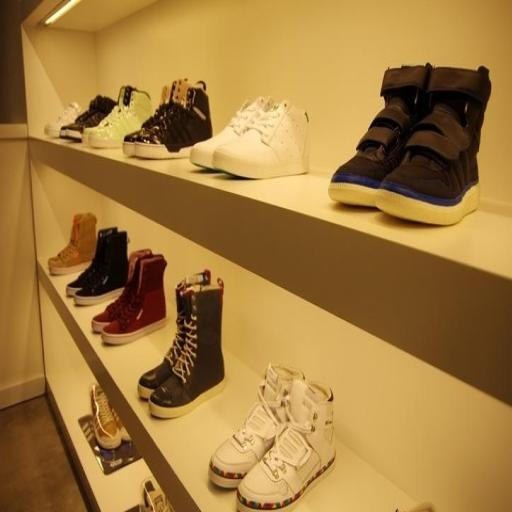shoe: (375, 66, 491, 225), (328, 63, 432, 207), (236, 379, 335, 512), (209, 364, 304, 488), (148, 279, 225, 418), (137, 269, 211, 400), (212, 100, 309, 179), (190, 96, 274, 169), (134, 81, 212, 159), (101, 255, 167, 344), (91, 248, 152, 333), (122, 79, 187, 156), (82, 86, 152, 148), (74, 232, 128, 305), (66, 227, 117, 297), (48, 212, 96, 275), (59, 95, 117, 142), (90, 384, 122, 450), (44, 102, 81, 138), (140, 478, 172, 512), (110, 406, 132, 442), (395, 501, 436, 512)
